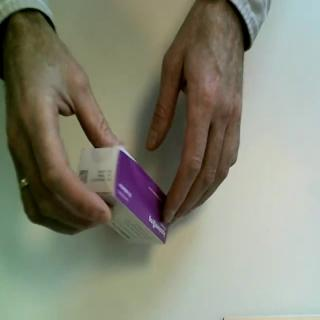apodonorm5mg: (76, 145, 170, 247)
